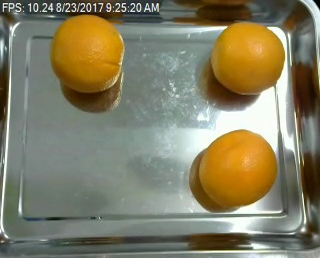Orange: (198, 129, 277, 207), (51, 14, 125, 92), (211, 20, 286, 95)
